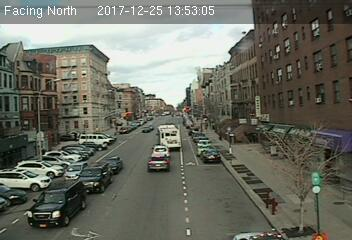bus: (158, 124, 183, 150)
car: (24, 180, 87, 228), (75, 163, 113, 193), (63, 162, 89, 181), (146, 153, 169, 172), (103, 155, 122, 172), (201, 148, 220, 162), (152, 144, 170, 156)
